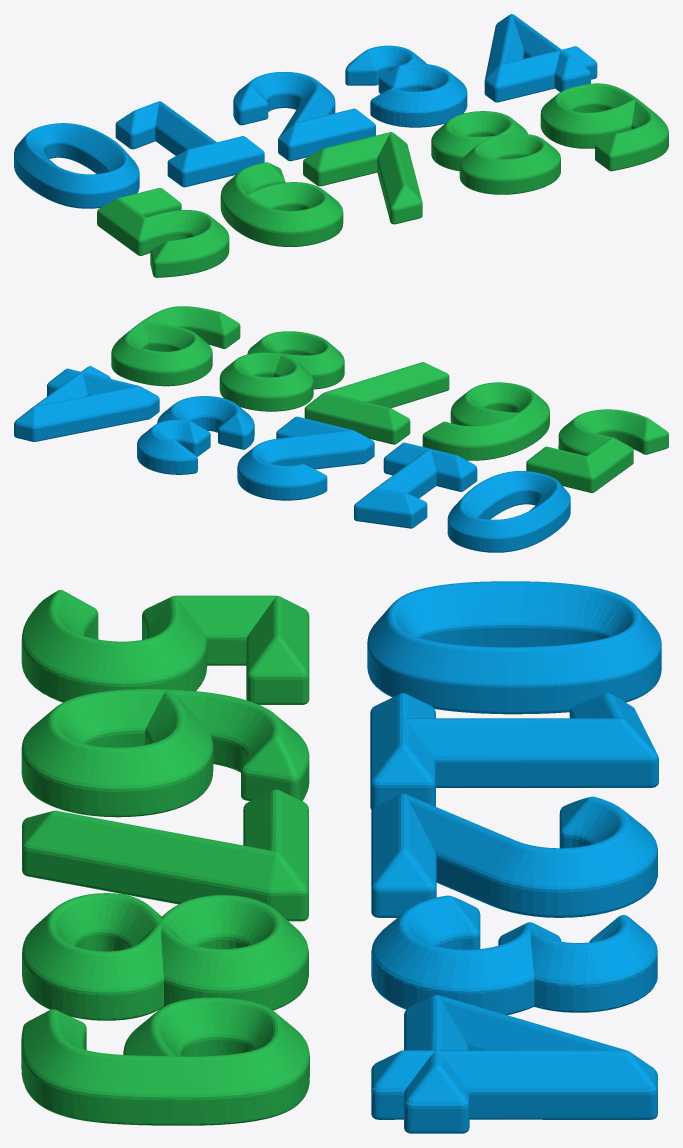
Rendered from Printable numbers.glb.
3 renders of one model, top to bottom at view 1: azimuth 30°, elevation 25°; view 2: azimuth 150°, elevation 25°; view 3: azimuth 270°, elevation 25°, orthographic. The views are drawn at different scales.
Size of the model in its own units: 0.1025 by 0.00541 by 0.0547.
